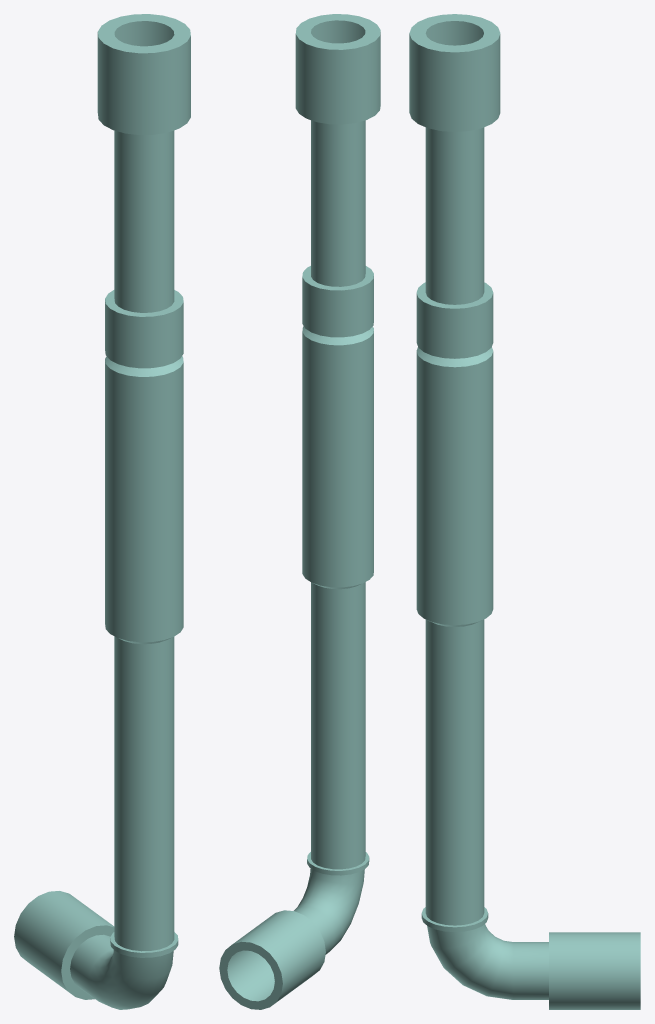
File: Pipe_Vertical_Small_8.fbx
3 renders of one model, left to right at view 1: azimuth 30°, elevation 25°; view 2: azimuth 150°, elevation 25°; view 3: azimuth 270°, elevation 25°, orthographic. The views are drawn at different scales.
Parts seen in each view (by area): view 1: Pipe_Vertical_Small_8; view 2: Pipe_Vertical_Small_8; view 3: Pipe_Vertical_Small_8.
Part boxes in pixels (box(x1,y1,x2,y2)): Pipe_Vertical_Small_8: box(14, 14, 190, 1009); Pipe_Vertical_Small_8: box(219, 14, 380, 1009); Pipe_Vertical_Small_8: box(409, 14, 640, 1009).
Size of the model in its own units: 20.03 by 236 by 50.83.
